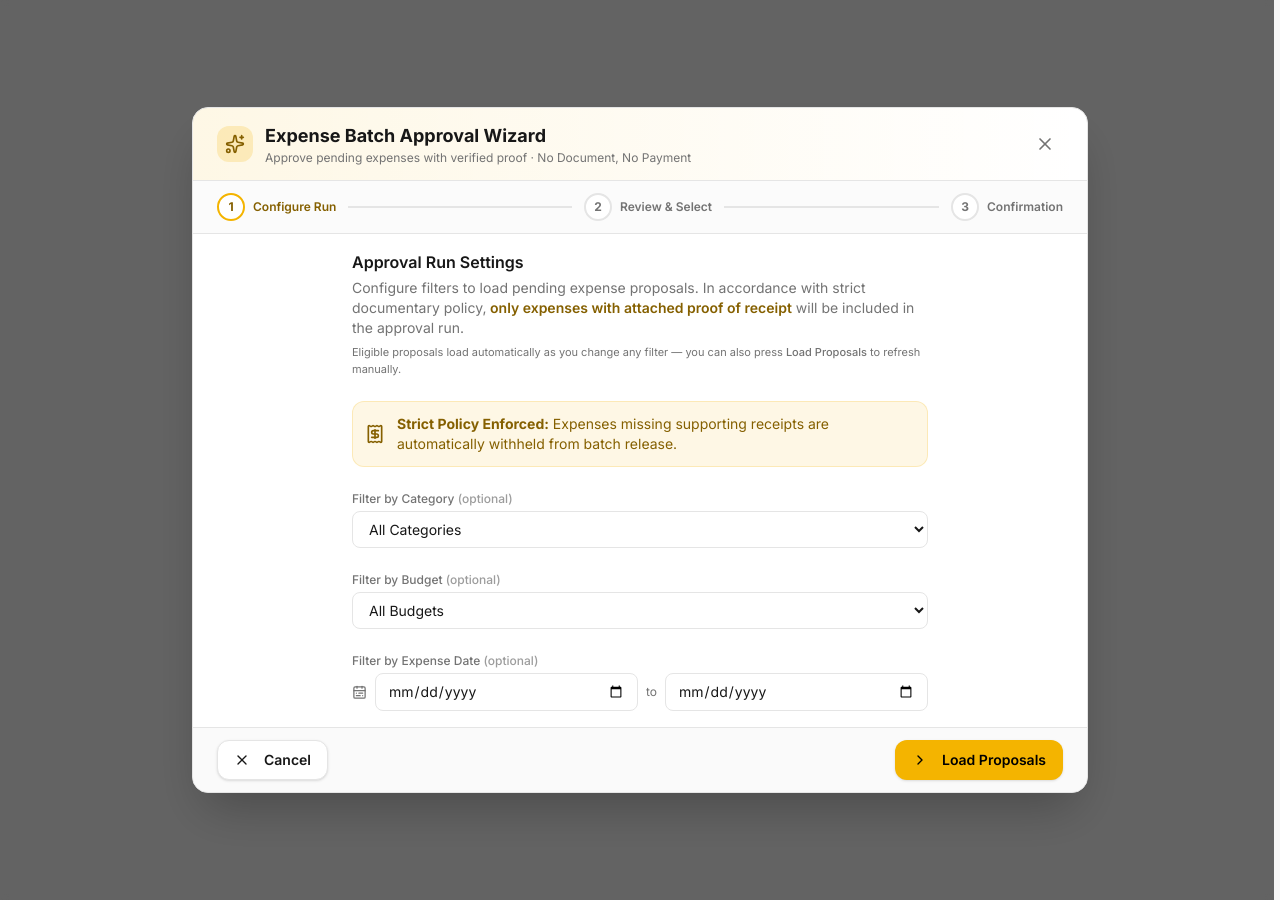
Test: BatchApproveExpensesModal proposal loading › still shows an error when nothing else superseded the load
Click the button "Load Proposals". click: (979, 760)
box: [895,740,1063,780]
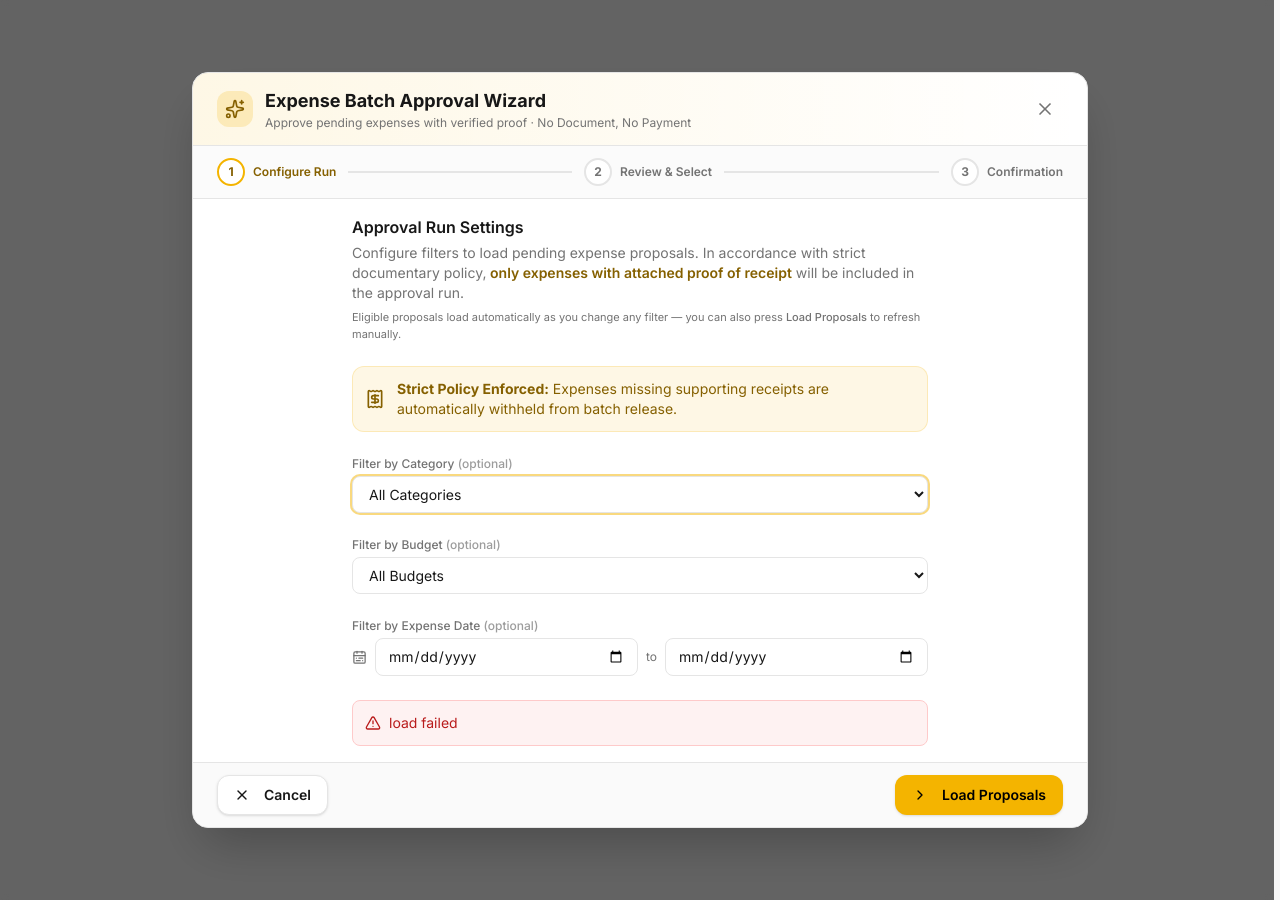
Expected: the text "load failed" is shown, [352,700,928,746]
